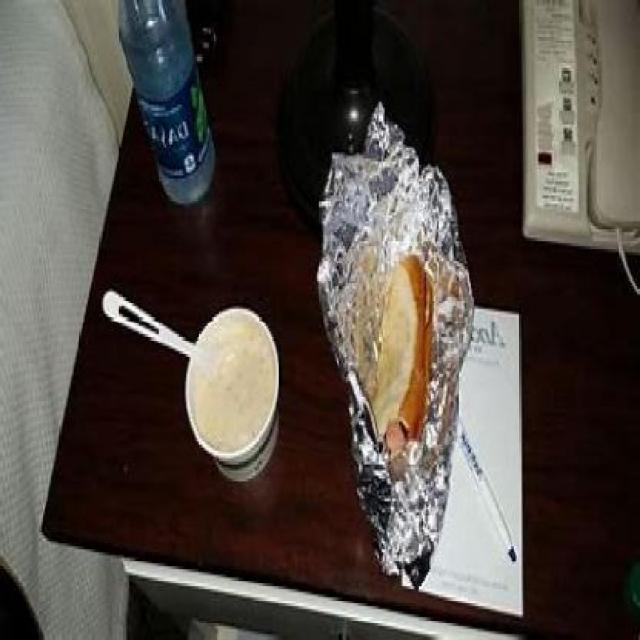clam chowder: (177, 292, 285, 499)
club sandwich: (362, 232, 442, 476)
